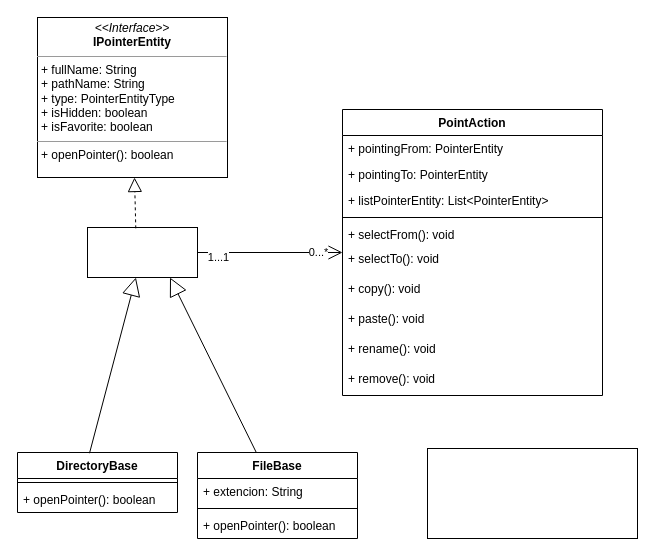
The diagram is 655 pixels wide and 559 high, and some of its shapes have lost their labels. Each missing label, with the centre of its shape:
PointerEntity: the point at 142,252
PointerEntityType :Enum Directory = 1 File = 2: the point at 532,493
